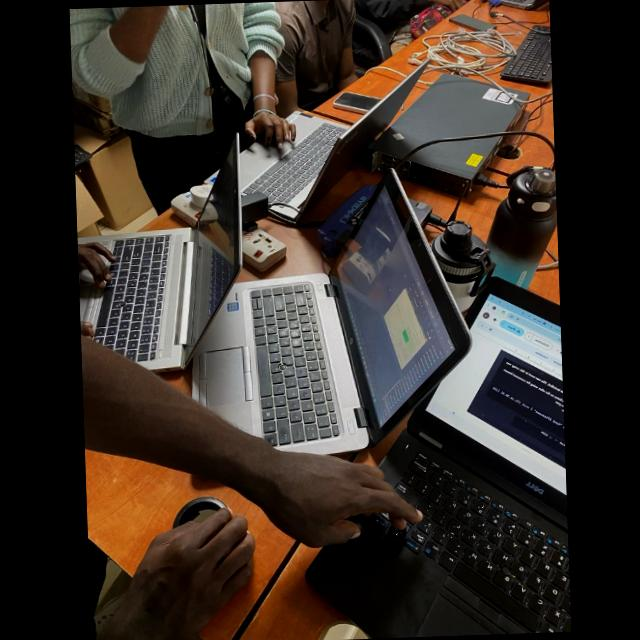laptop: (307, 278, 571, 638), (193, 170, 470, 454), (79, 141, 242, 371), (240, 65, 424, 219)
